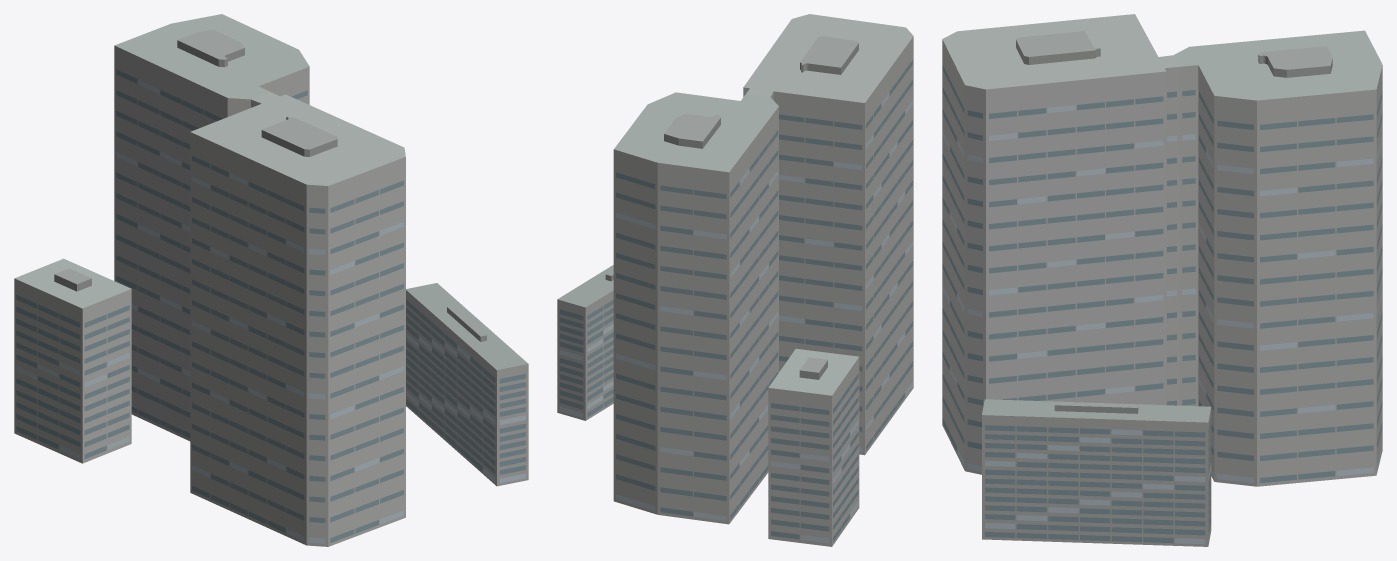
File: apt-a13177501.glb
The picture shows the model from 3 angles, left to right: view 1: azimuth 30°, elevation 25°; view 2: azimuth 150°, elevation 25°; view 3: azimuth 270°, elevation 25°; orthographic projection. The views are drawn at different scales.
Visible parts, largest first — view 1: apt-a13177501; view 2: apt-a13177501; view 3: apt-a13177501.
Boxes of the visible parts, bbox=[...] form: apt-a13177501: bbox=[14, 14, 528, 546]; apt-a13177501: bbox=[557, 14, 913, 546]; apt-a13177501: bbox=[942, 14, 1382, 546].
Bounding box in the file's own units: 118 × 118 × 119.
